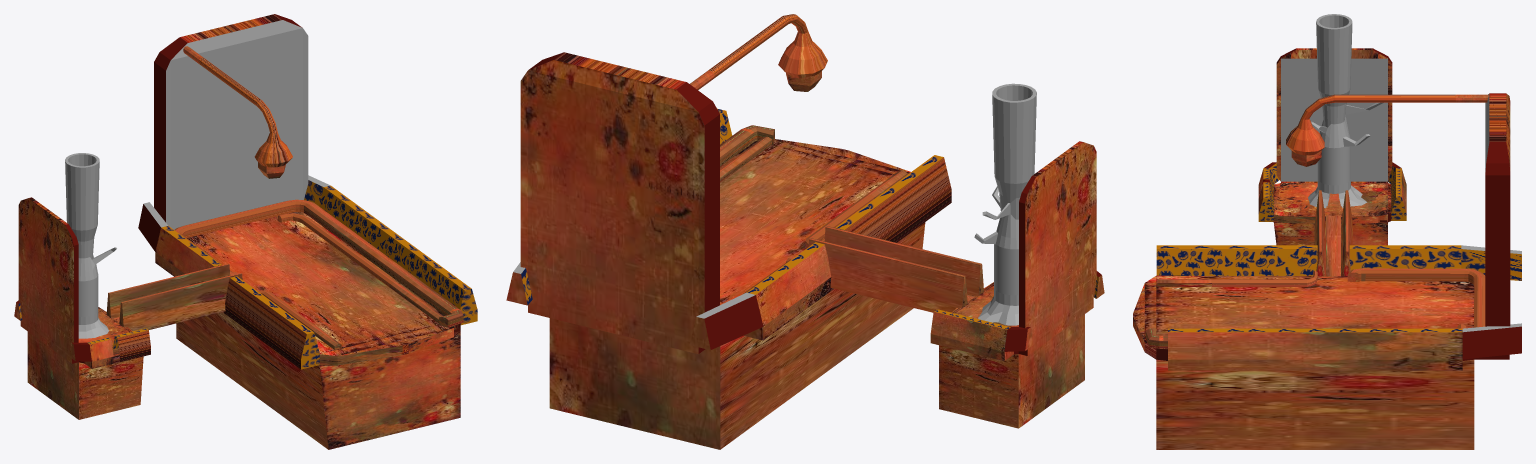
The model's file is PinballTwo.fbx.
3 views of the same model, side by side, from view 1: azimuth 30°, elevation 25°; view 2: azimuth 150°, elevation 25°; view 3: azimuth 270°, elevation 25° (orthographic). The views are drawn at different scales.
Parts seen in each view (by area): view 1: pPlane1, pPlane2, pPipe1, pCube1, pCube5, pCylinder1, pCube4, pCube2, pCube3; view 2: pPlane1, pPlane2, pPipe1, pCube4, pCylinder1, pCube5, pCube1, pCube3, pCube2; view 3: pPlane1, pPlane2, pPipe1, pCube1, pCylinder1, pCube3, pCube6, pCube4, pCube5.
Part boxes in pixels (box(x1,y1,x2,y2)): pPlane1: box(138, 14, 477, 449); pPlane2: box(14, 197, 150, 419); pPipe1: box(65, 153, 116, 338); pCube1: box(174, 199, 463, 327); pCube5: box(119, 273, 242, 331); pCylinder1: box(183, 46, 292, 167); pCube4: box(106, 263, 230, 317); pCube2: box(277, 213, 442, 323); pCube3: box(257, 290, 341, 349); pPlane1: box(506, 52, 951, 449); pPlane2: box(930, 141, 1104, 428); pPipe1: box(974, 83, 1036, 325); pCube4: box(808, 238, 967, 312); pCylinder1: box(690, 14, 827, 89); pCube5: box(824, 226, 983, 296); pCube1: box(720, 125, 795, 294); pCube3: box(805, 170, 907, 247); pCube2: box(720, 136, 771, 182); pPlane1: box(1133, 93, 1521, 449); pPlane2: box(1258, 48, 1406, 275); pPipe1: box(1308, 14, 1383, 208); pCube1: box(1145, 268, 1485, 348); pCylinder1: box(1286, 94, 1488, 155); pCube3: box(1157, 270, 1317, 286); pCube6: box(1326, 215, 1340, 276); pCube4: box(1341, 190, 1352, 276); pCube5: box(1314, 190, 1325, 276).
Size of the model in its own units: 97.23 by 74.96 by 88.45.
Materials: 5 (2 with a texture image).
